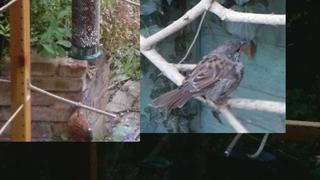dunnock: (148, 40, 246, 113)
